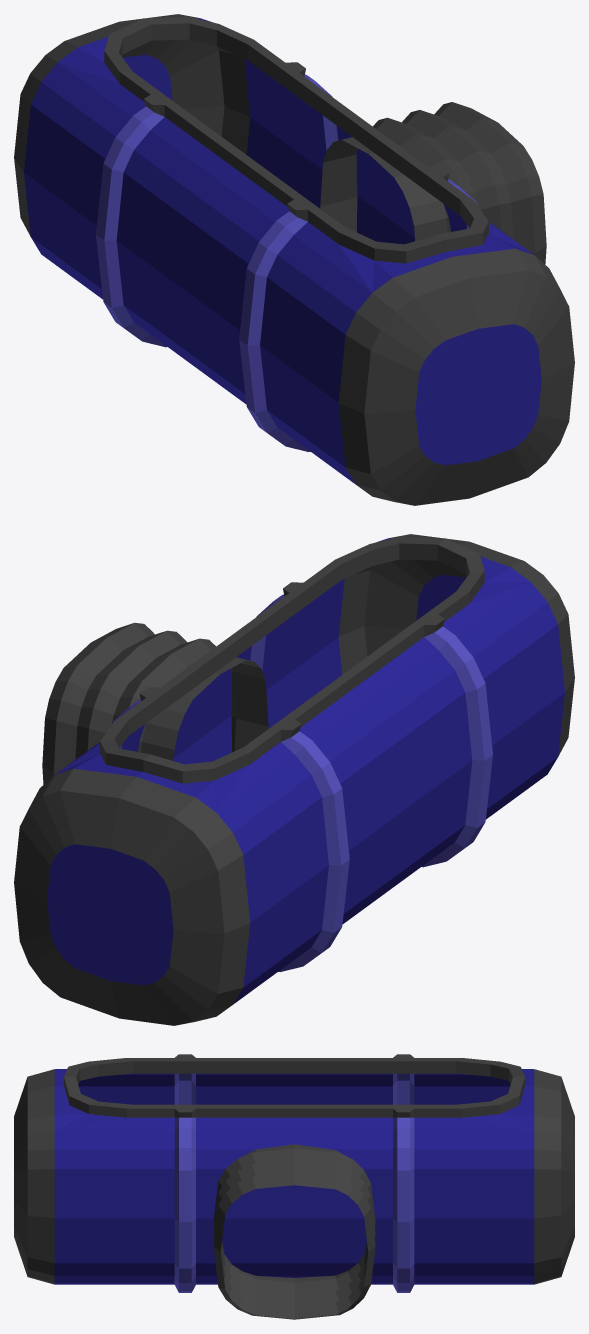
Rendered from PackageTank_2.fbx.
3 views of the same model, one above another, from view 1: azimuth 30°, elevation 25°; view 2: azimuth 150°, elevation 25°; view 3: azimuth 270°, elevation 25° (orthographic). The views are drawn at different scales.
Visible parts, largest first — view 1: pCylinder31; view 2: pCylinder31; view 3: pCylinder31.
Part boxes in pixels (x1,y1,x2,y2): pCylinder31: (14,14,574,505); pCylinder31: (14,534,574,1025); pCylinder31: (14,1054,574,1319).
Bounding box in the file's own units: 2.58 × 1.96 × 5.05.
